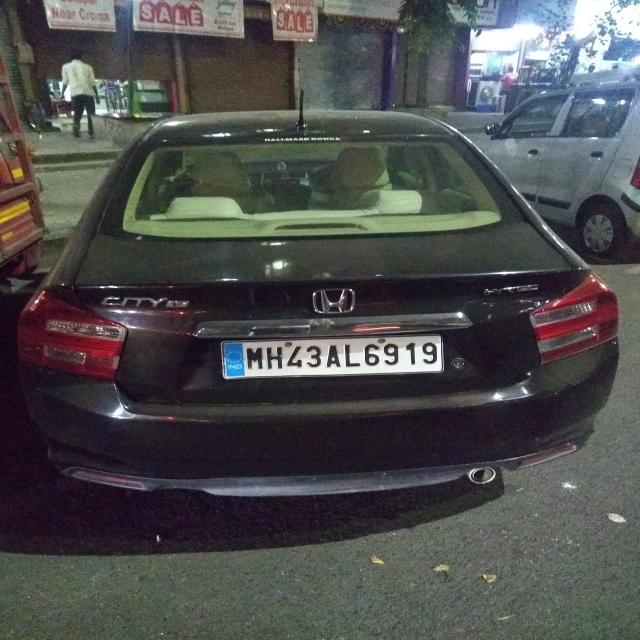Number-Plate: (220, 337, 439, 366)
